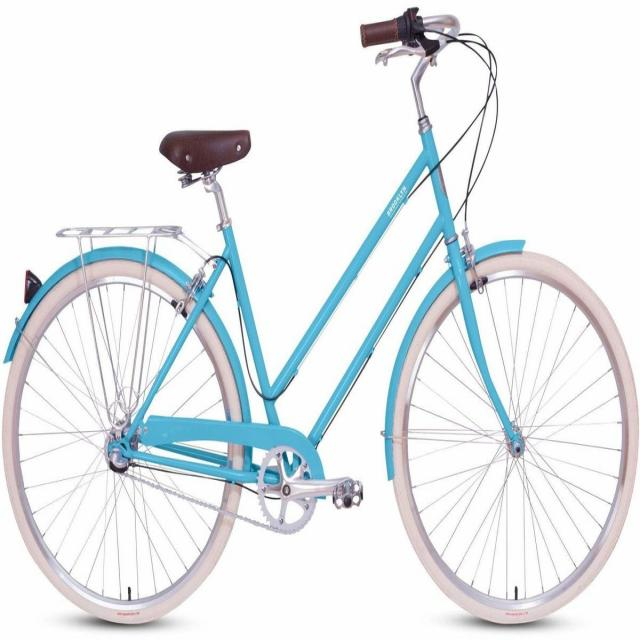bicycle: (3, 11, 633, 634)
